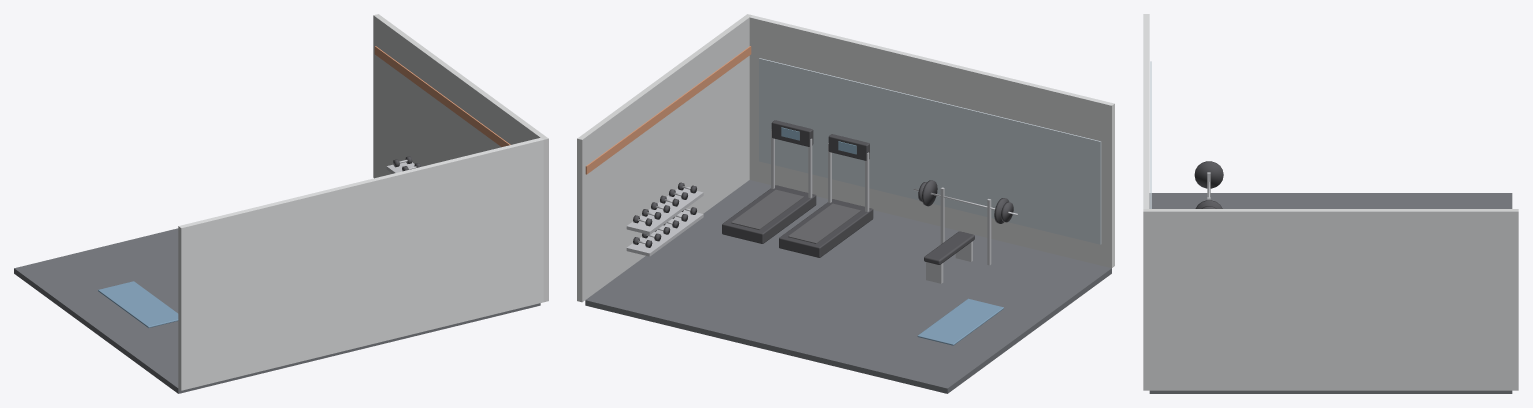
File: salida.gimnasio.fbx
The picture shows the model from 3 angles, left to right: view 1: azimuth 30°, elevation 25°; view 2: azimuth 150°, elevation 25°; view 3: azimuth 270°, elevation 25°; orthographic projection. The views are drawn at different scales.
Visible parts, largest first — view 1: Muro del fondo, Muro lateral, Piso, Colchoneta, Franja; view 2: Piso, Espejo, Muro del fondo, Muro lateral, Colchoneta, Base de la trotadora, Base de la trotadora.001, Franja, Banda, Banda.001, Rack.001, Rack (+3 smaller); view 3: Muro lateral, Piso, Muro del fondo, Disco.002.
Boxes of the visible parts, <box> form: Muro del fondo: <box>178,137,543,390</box>; Muro lateral: <box>373,14,548,302</box>; Piso: <box>14,228,540,393</box>; Colchoneta: <box>98,281,178,327</box>; Franja: <box>374,46,510,146</box>; Piso: <box>585,180,1111,393</box>; Espejo: <box>759,58,1101,244</box>; Muro del fondo: <box>749,15,1114,268</box>; Muro lateral: <box>577,14,752,302</box>; Colchoneta: <box>917,298,1003,345</box>; Base de la trotadora: <box>722,185,816,243</box>; Base de la trotadora.001: <box>779,199,873,257</box>; Franja: <box>585,46,751,174</box>; Banda: <box>731,189,804,229</box>; Banda.001: <box>788,203,861,243</box>; Rack.001: <box>626,188,703,234</box>; Rack: <box>626,210,703,256</box>; Muro lateral: <box>1143,209,1518,390</box>; Piso: <box>1149,193,1512,393</box>; Muro del fondo: <box>1143,14,1149,208</box>; Disco.002: <box>1194,161,1223,188</box>.
Size of the model in its own units: 7.1 by 3.1 by 5.7.
